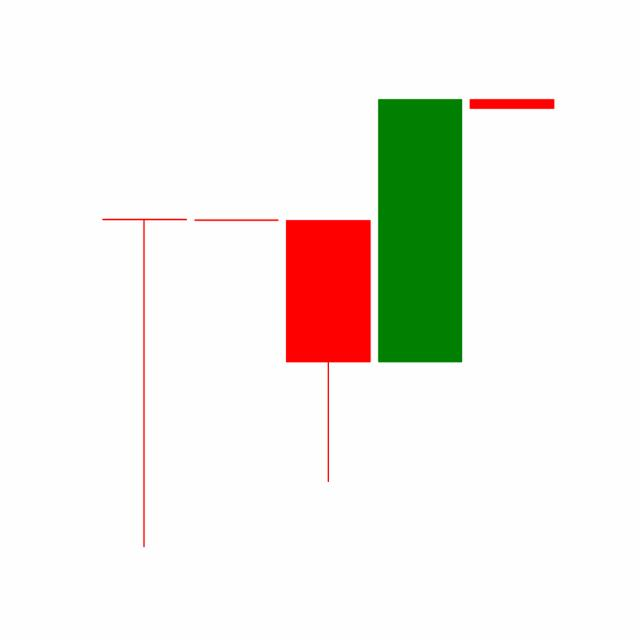Marubozu: (373, 96, 467, 365)
